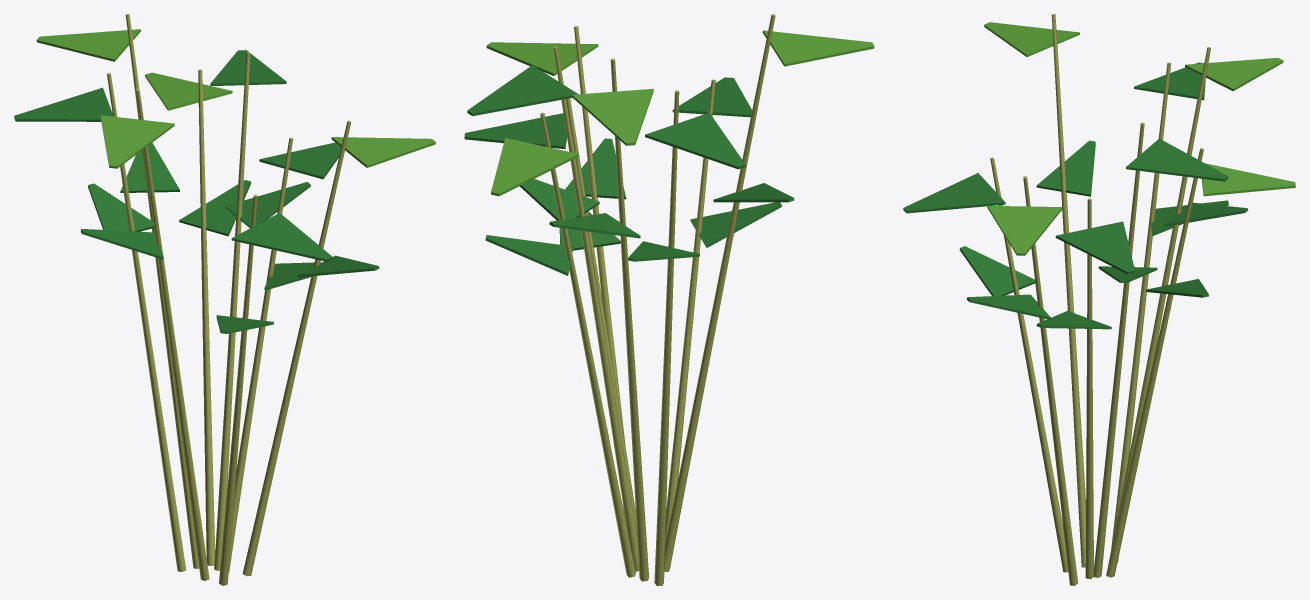
Rendered from bambu.glb.
3 renders of one model, left to right at view 1: azimuth 30°, elevation 25°; view 2: azimuth 150°, elevation 25°; view 3: azimuth 270°, elevation 25°, orthographic. The views are drawn at different scales.
Visible parts, largest first — view 1: body; view 2: body; view 3: body.
Part boxes in pixels (<box>): body: <box>14,14,435,585</box>; body: <box>464,14,874,585</box>; body: <box>903,14,1295,585</box>.
Size of the model in its own units: 4.62 by 6.76 by 4.69.
Materials: 1 (1 with a texture image).
